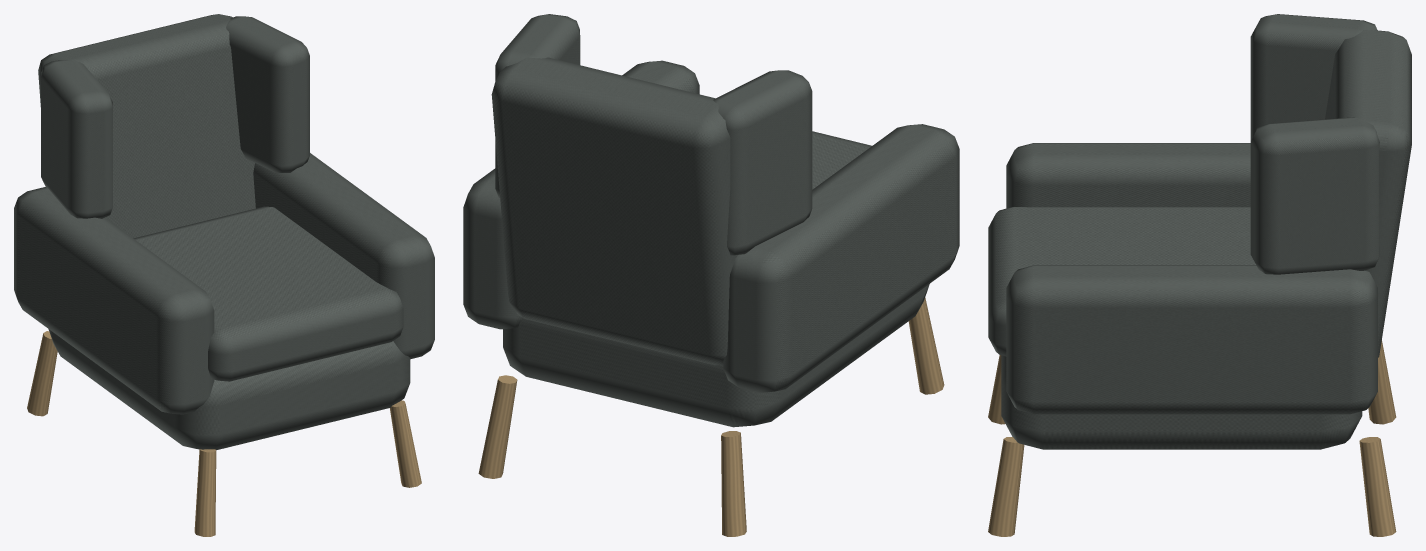
The model's file is strandmon-mobile.glb.
3 views of the same model, side by side, from view 1: azimuth 30°, elevation 25°; view 2: azimuth 150°, elevation 25°; view 3: azimuth 270°, elevation 25° (orthographic). The views are drawn at different scales.
Parts seen in each view (by area): view 1: STRANDMON Wing chair; view 2: STRANDMON Wing chair; view 3: STRANDMON Wing chair.
Part boxes in pixels (left/top/right/bottom): STRANDMON Wing chair: left=14, top=14, right=434, bottom=536; STRANDMON Wing chair: left=463, top=14, right=959, bottom=536; STRANDMON Wing chair: left=988, top=14, right=1411, bottom=536.
Bounding box in the file's own units: 0.82 × 1.01 × 0.96.
2 materials, 2 textured.
